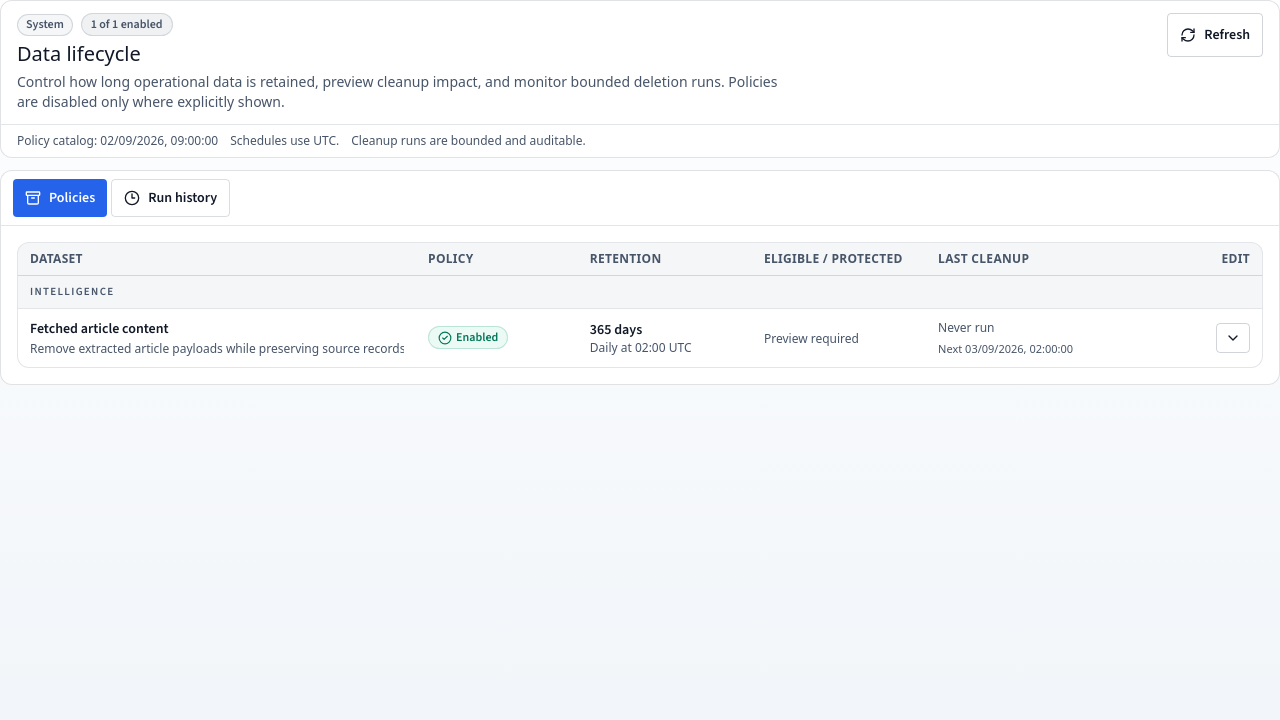
Scenario: DataLifecyclePage › marks expired previews and does not leave a successful preview message
Click the button named "Configure Fetched article content lifecycle policy": (1233,338) left=1216, top=323, right=1250, bottom=353
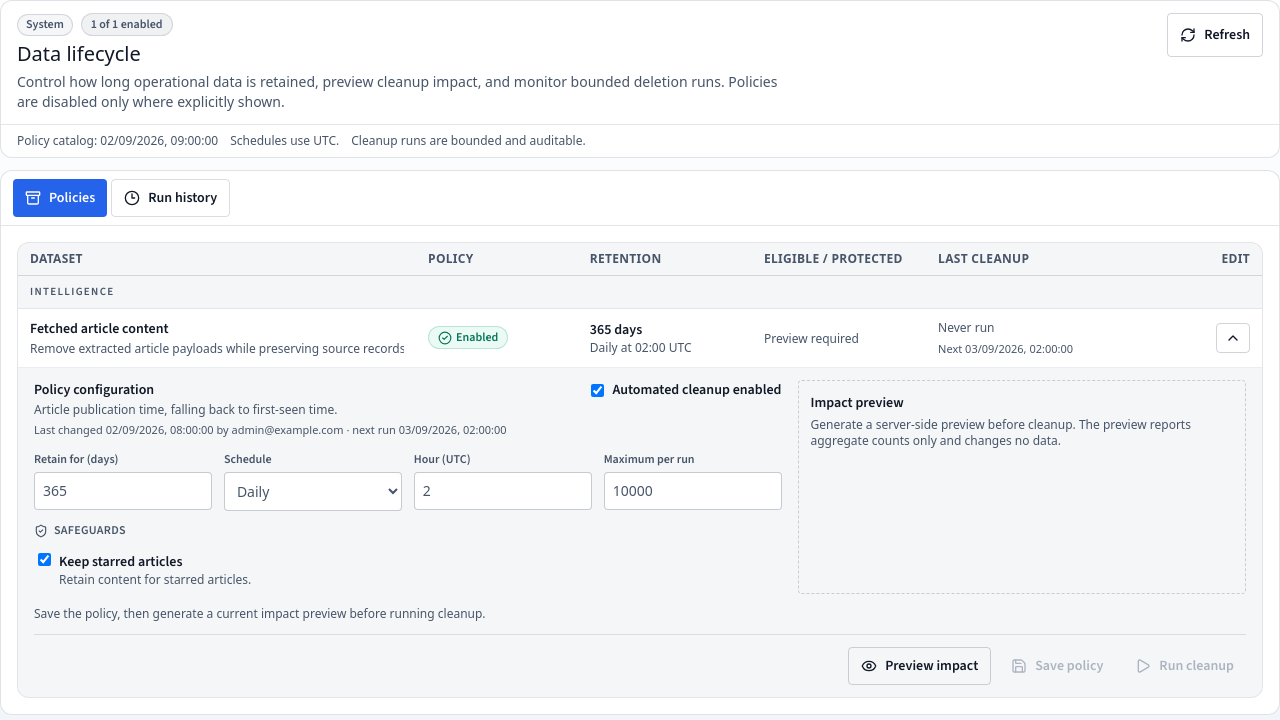
Click the checkbox labelled "Keep starred articles Retain content for starred articles.": (44,560) left=38, top=553, right=51, bottom=566
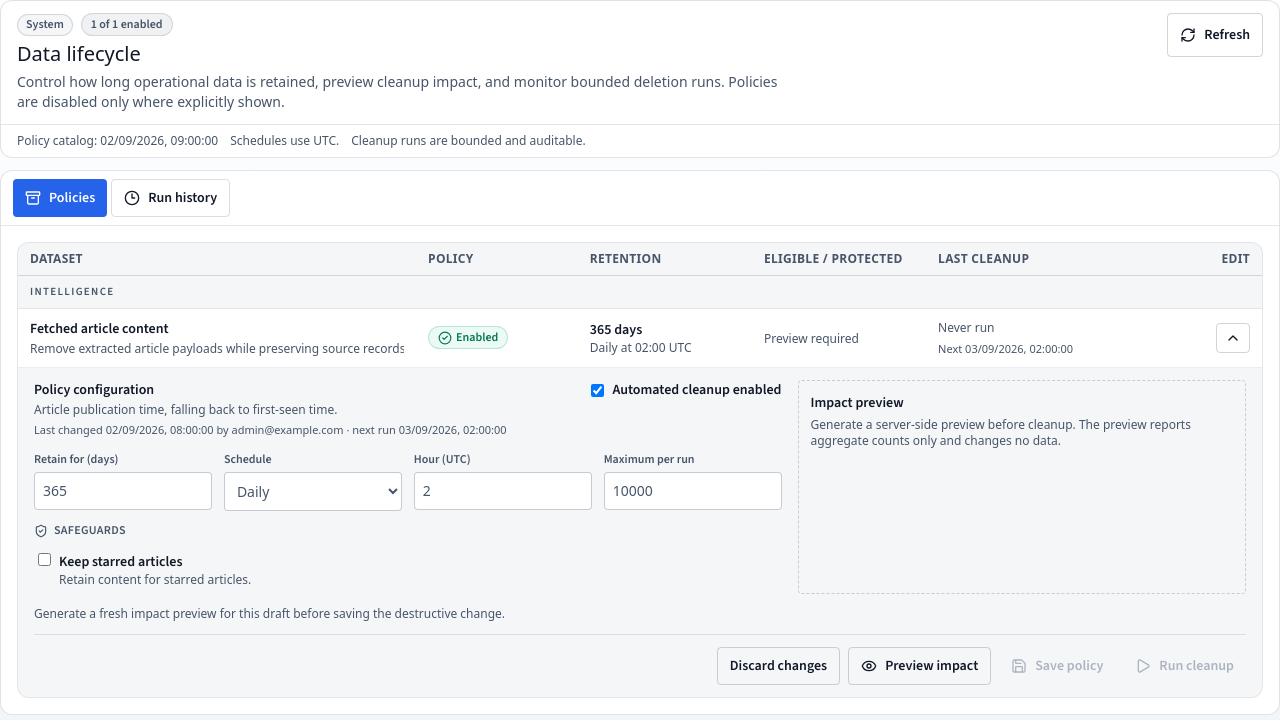
Click the button "Preview impact": (920,666) left=848, top=647, right=991, bottom=685
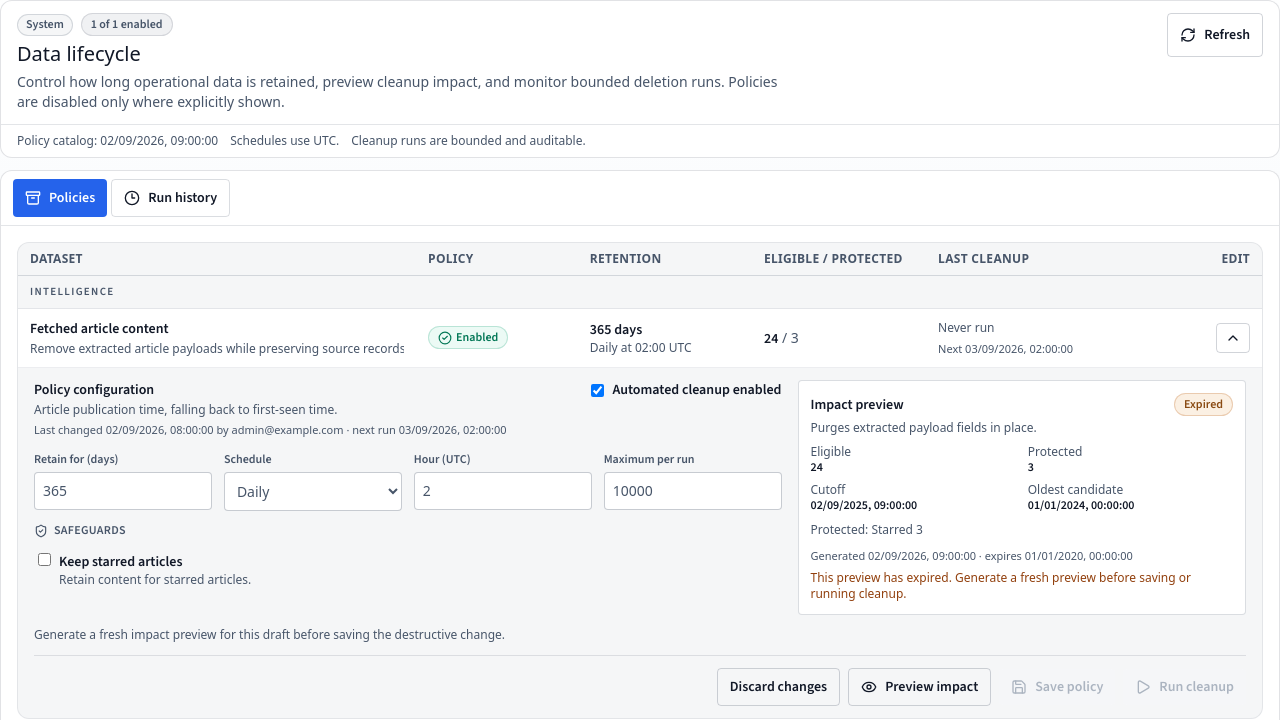
Now the button "Save policy" is disabled, box left=999, top=669, right=1115, bottom=705
Now the text "Expired" is shown, box left=1174, top=393, right=1233, bottom=416
